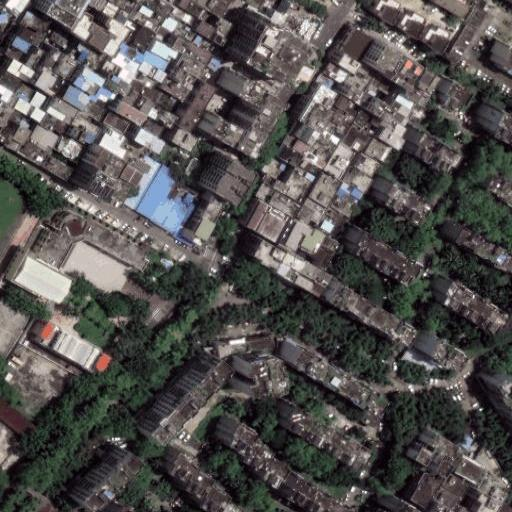building: (135, 348, 220, 434), (202, 68, 282, 150), (37, 214, 150, 271), (330, 284, 421, 350), (272, 396, 358, 462), (278, 335, 361, 397), (162, 449, 237, 512), (135, 164, 200, 235), (37, 320, 115, 378), (218, 412, 282, 481), (438, 217, 512, 276), (344, 222, 414, 279), (432, 275, 502, 332), (244, 12, 313, 67), (11, 250, 76, 307), (232, 34, 300, 88), (65, 438, 125, 499), (70, 11, 133, 60), (275, 253, 333, 299), (278, 474, 348, 512), (0, 296, 34, 371), (414, 430, 462, 481), (405, 128, 455, 173), (371, 173, 422, 217), (480, 375, 512, 439), (245, 200, 290, 243), (183, 192, 219, 243), (179, 83, 216, 132), (473, 100, 512, 143), (236, 349, 275, 391), (0, 396, 35, 439), (254, 183, 298, 217), (330, 179, 366, 218), (306, 172, 342, 209), (307, 129, 340, 169), (416, 329, 454, 363), (391, 56, 426, 92), (284, 167, 317, 205), (310, 233, 341, 273), (322, 142, 355, 179), (301, 99, 335, 134), (82, 143, 118, 176), (203, 165, 238, 198), (409, 473, 441, 509), (454, 454, 490, 486), (98, 126, 133, 158), (338, 121, 371, 154), (440, 81, 473, 114), (374, 45, 406, 79), (252, 240, 286, 271), (343, 29, 374, 62), (45, 95, 78, 126), (176, 52, 211, 81), (296, 198, 328, 229), (403, 348, 437, 377), (113, 52, 142, 86), (478, 474, 509, 505), (34, 67, 65, 98), (53, 134, 85, 164), (27, 125, 59, 155), (134, 5, 167, 34), (283, 218, 311, 252), (70, 163, 100, 194), (344, 165, 376, 194), (213, 151, 246, 179), (485, 38, 512, 72), (134, 128, 168, 155), (299, 225, 327, 256), (397, 12, 428, 39), (41, 155, 73, 181), (486, 175, 512, 206), (442, 473, 471, 500), (61, 85, 90, 112), (147, 104, 178, 129), (115, 102, 147, 126), (422, 27, 450, 54), (364, 137, 392, 164), (354, 151, 382, 178), (171, 126, 200, 152), (196, 21, 227, 45), (432, 487, 462, 511), (371, 98, 398, 124), (6, 58, 34, 83), (72, 115, 102, 138), (162, 78, 190, 102), (434, 0, 469, 19), (292, 121, 318, 146), (325, 112, 350, 138), (277, 144, 304, 168), (21, 143, 49, 166), (314, 84, 339, 109), (94, 495, 130, 512), (150, 40, 179, 61), (262, 158, 287, 182), (132, 25, 155, 51), (55, 55, 78, 81), (171, 68, 196, 91), (380, 128, 406, 150), (68, 125, 94, 147), (79, 67, 105, 89), (82, 99, 106, 122), (338, 53, 363, 75), (24, 46, 46, 71), (11, 123, 34, 146), (324, 62, 348, 84), (346, 85, 370, 107), (370, 73, 394, 95), (120, 165, 144, 187), (104, 113, 129, 134), (74, 76, 99, 97), (262, 175, 288, 195), (94, 84, 117, 106), (477, 493, 503, 512), (120, 43, 144, 63), (351, 106, 372, 128), (143, 117, 165, 138), (84, 50, 105, 71), (339, 96, 361, 116), (43, 47, 62, 70), (28, 15, 50, 34), (121, 88, 141, 108), (390, 100, 412, 118), (15, 98, 34, 117), (394, 92, 414, 110), (131, 158, 151, 176), (12, 36, 33, 53), (418, 69, 436, 88), (157, 93, 176, 111), (404, 87, 424, 104), (49, 32, 69, 49), (425, 75, 441, 95), (102, 1, 120, 18), (19, 27, 37, 44), (39, 113, 56, 131), (292, 139, 310, 155), (16, 84, 34, 100), (30, 91, 46, 109), (139, 98, 155, 116), (430, 501, 456, 512), (7, 45, 24, 61), (207, 55, 223, 72), (173, 22, 190, 38), (316, 73, 334, 88), (391, 123, 407, 139), (114, 8, 130, 24), (364, 83, 380, 98), (216, 19, 232, 34), (163, 16, 178, 32), (51, 119, 67, 134), (141, 86, 157, 101), (417, 91, 431, 108), (138, 75, 155, 89), (319, 218, 334, 233), (138, 61, 153, 76), (181, 12, 197, 26), (20, 11, 34, 27), (130, 79, 146, 93), (398, 502, 420, 512), (31, 107, 45, 122), (152, 70, 167, 84), (77, 41, 92, 55), (380, 119, 395, 132), (171, 6, 185, 19), (395, 113, 409, 125), (103, 61, 117, 73), (76, 51, 88, 64), (370, 117, 381, 128), (499, 503, 512, 512), (417, 83, 428, 92), (0, 14, 8, 23), (460, 507, 471, 512)
